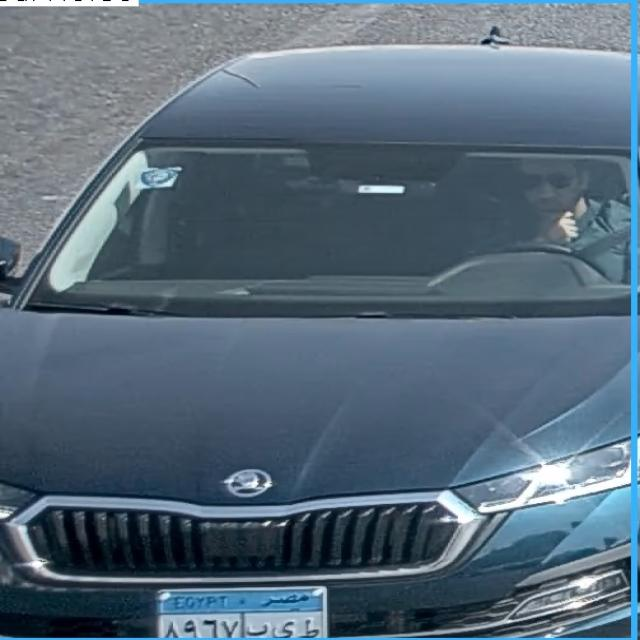windshield: (17, 140, 634, 309)
